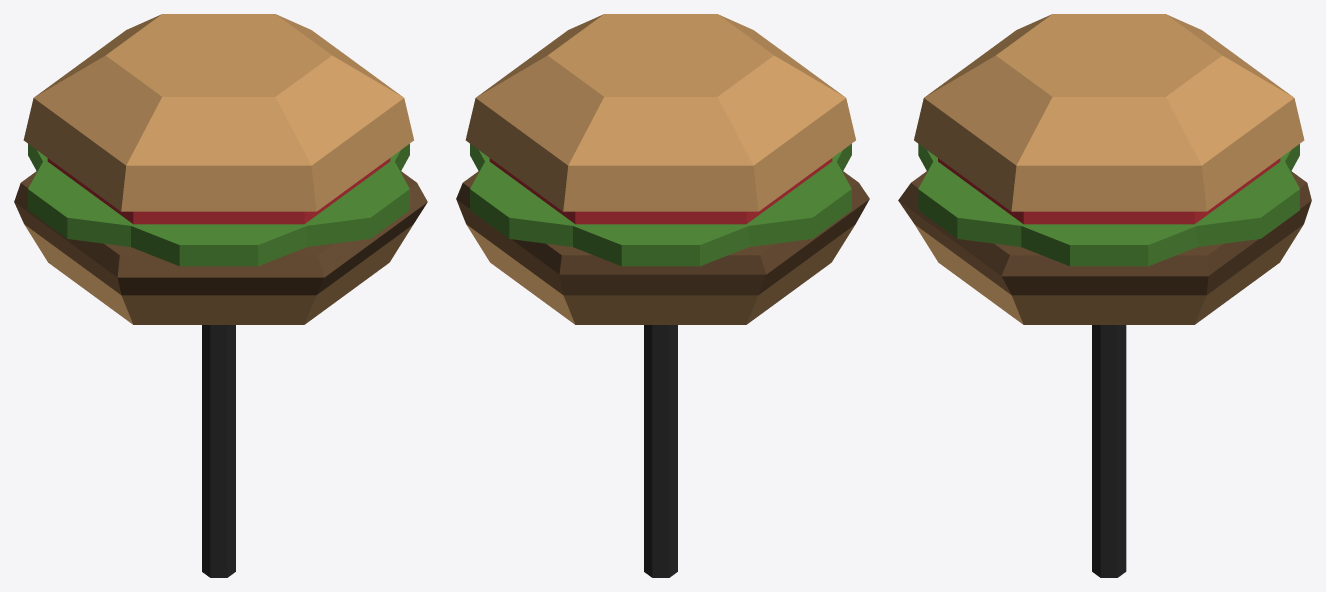
The model's file is props_burger-statue.fbx.
3 renders of one model, left to right at view 1: azimuth 30°, elevation 25°; view 2: azimuth 150°, elevation 25°; view 3: azimuth 270°, elevation 25°, orthographic.
Visible parts, largest first — view 1: props_burger_statue; view 2: props_burger_statue; view 3: props_burger_statue.
Part boxes in pixels (<box>): props_burger_statue: <box>14,14,427,577</box>; props_burger_statue: <box>456,14,869,577</box>; props_burger_statue: <box>898,14,1311,577</box>.
Bounding box in the file's own units: 139 × 200 × 145.
